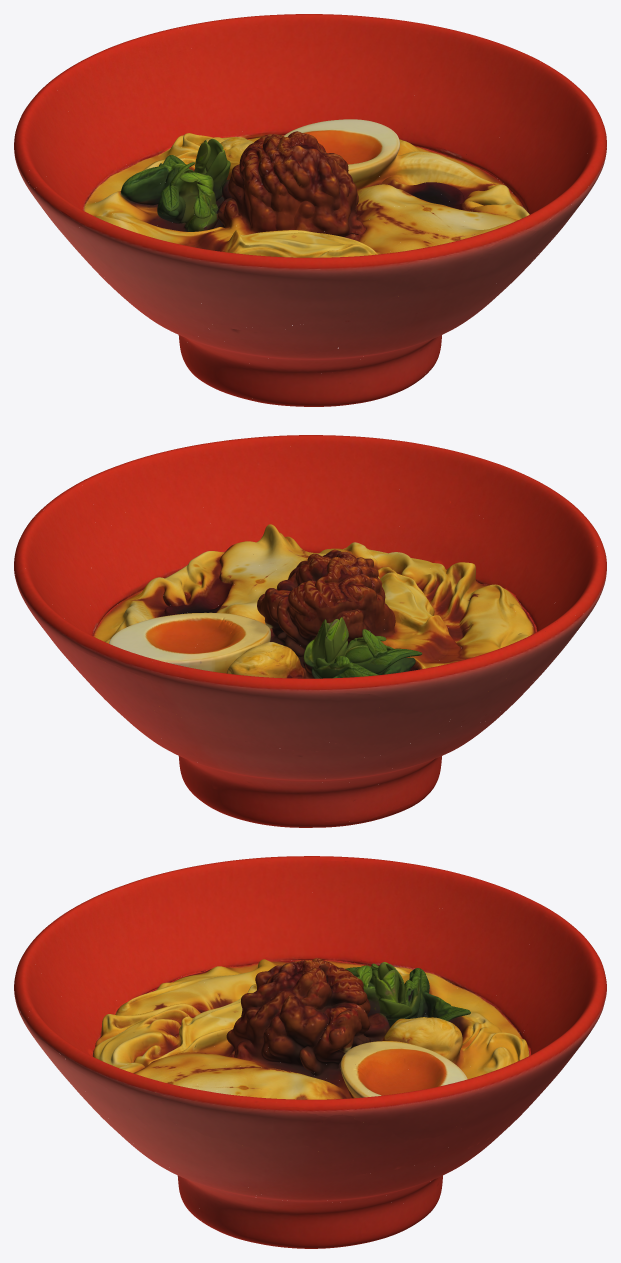
Rendered from Tantanmen.glb.
3 renders of one model, top to bottom at view 1: azimuth 30°, elevation 25°; view 2: azimuth 150°, elevation 25°; view 3: azimuth 270°, elevation 25°, orthographic.
Parts seen in each view (by area): view 1: tripo_node_1477228b-4883-45ae-80c3-8b4e8d632b19; view 2: tripo_node_1477228b-4883-45ae-80c3-8b4e8d632b19; view 3: tripo_node_1477228b-4883-45ae-80c3-8b4e8d632b19.
Part boxes in pixels (box(x1,y1,x2,y2)): tripo_node_1477228b-4883-45ae-80c3-8b4e8d632b19: box(14, 14, 606, 406); tripo_node_1477228b-4883-45ae-80c3-8b4e8d632b19: box(14, 435, 606, 827); tripo_node_1477228b-4883-45ae-80c3-8b4e8d632b19: box(14, 856, 606, 1248).
Bounding box in the file's own units: 0.9793 × 0.4086 × 0.9786.
1 material, 1 textured.
